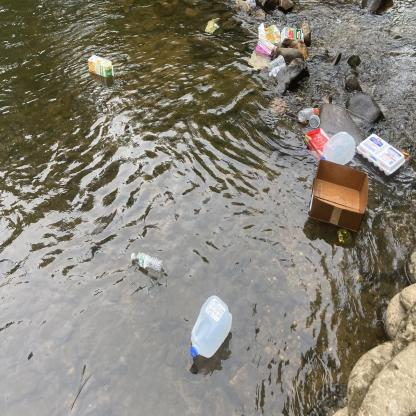trash: (304, 154, 374, 235), (184, 293, 240, 364), (355, 131, 407, 178), (320, 128, 357, 172), (247, 36, 278, 72), (84, 51, 118, 82), (302, 126, 332, 161), (130, 248, 166, 277), (258, 22, 282, 46), (295, 105, 321, 124), (280, 26, 304, 46), (204, 16, 221, 36), (268, 54, 286, 72), (268, 62, 288, 78), (308, 113, 322, 130), (240, 0, 257, 9)
